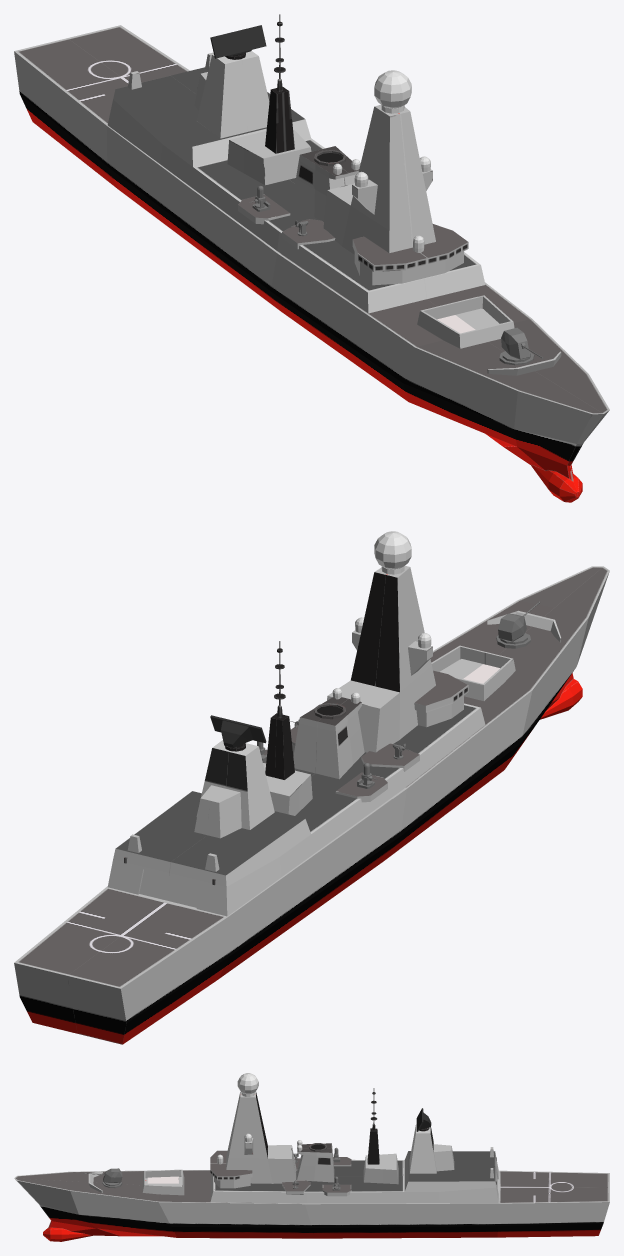
The picture shows the model from 3 angles, top to bottom: view 1: azimuth 30°, elevation 25°; view 2: azimuth 150°, elevation 25°; view 3: azimuth 270°, elevation 25°; orthographic projection. The views are drawn at different scales.
Visible parts, largest first — view 1: Cube, Cylinder.002, Cube.001, Cube.002; view 2: Cube, Cylinder.002, Cube.001; view 3: Cube, Cylinder.002, Cube.002.
Part boxes in pixels (bbox=[...]): Cube: bbox=[14, 14, 609, 502]; Cylinder.002: bbox=[333, 70, 430, 252]; Cube.001: bbox=[210, 25, 266, 58]; Cube.002: bbox=[501, 327, 529, 359]; Cube: bbox=[14, 565, 609, 1044]; Cylinder.002: bbox=[332, 531, 431, 703]; Cube.001: bbox=[210, 715, 266, 747]; Cube: bbox=[14, 1088, 609, 1241]; Cylinder.002: bbox=[217, 1073, 302, 1164]; Cube.002: bbox=[103, 1168, 122, 1182].
Size of the model in its own units: 69 by 150 by 484.
Materials: 4 (1 with a texture image).
